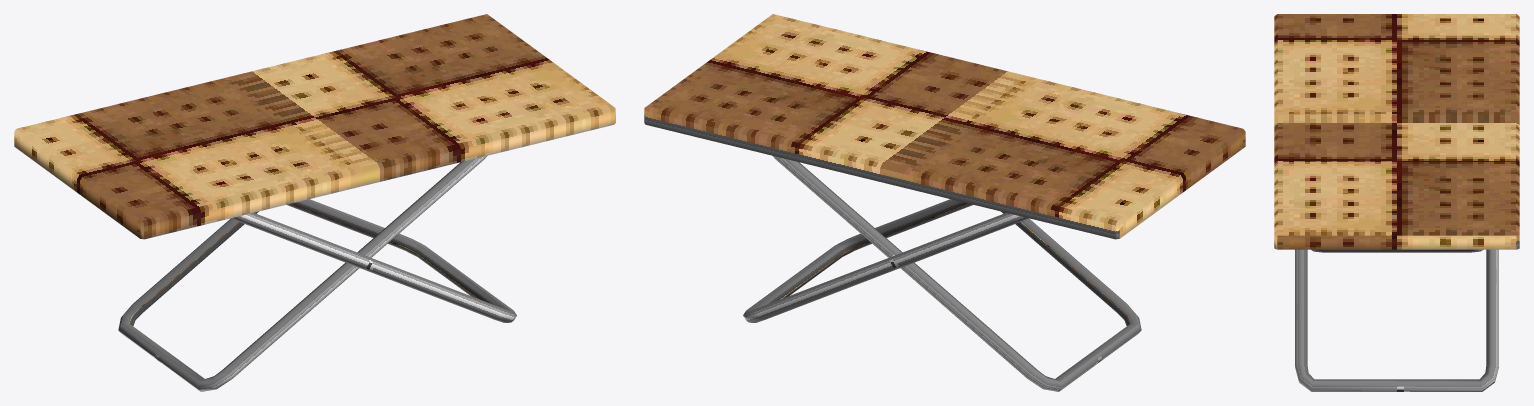
File: int_swt_tableL.dae
3 renders of one model, left to right at view 1: azimuth 30°, elevation 25°; view 2: azimuth 150°, elevation 25°; view 3: azimuth 270°, elevation 25°, orthographic. The views are drawn at different scales.
Parts seen in each view (by area): view 1: int_swt_tableL; view 2: int_swt_tableL; view 3: int_swt_tableL.
Part boxes in pixels (x1,y1,x2,y2): int_swt_tableL: (14,14,615,391); int_swt_tableL: (644,14,1245,391); int_swt_tableL: (1274,14,1519,391).
Bounding box in the file's own units: 57.38 × 24 × 27.
Materials: 1 (1 with a texture image).
